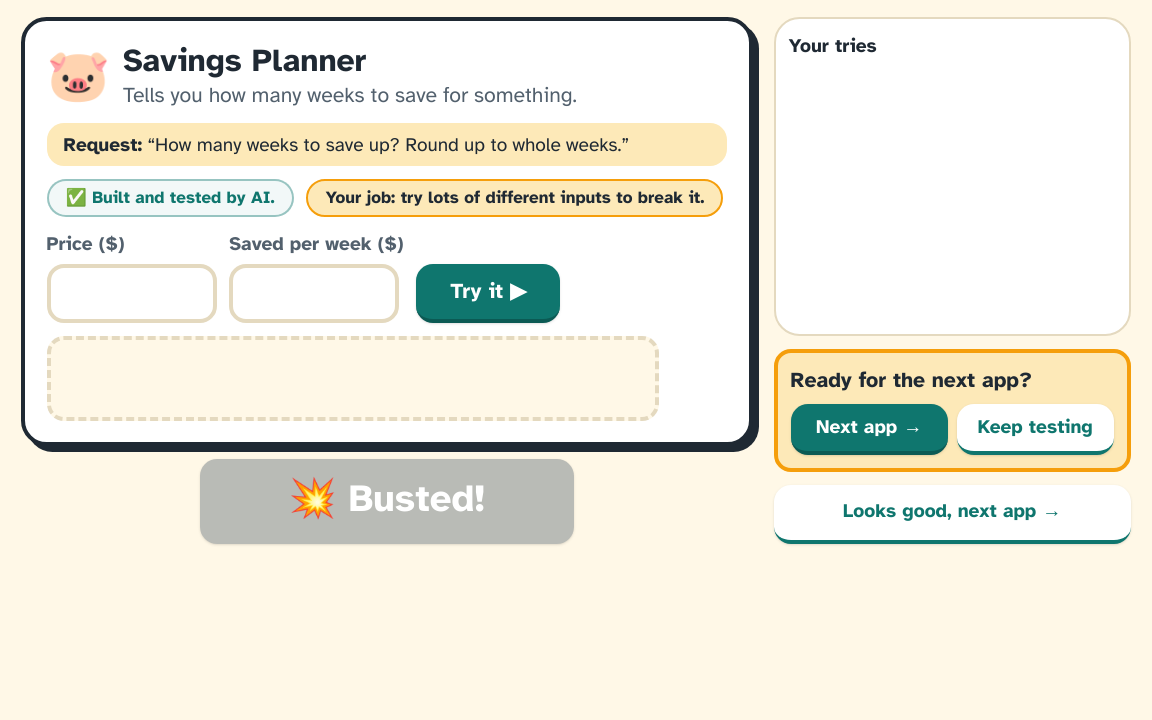
a machine › the nudge asks but never moves on by itself
Check: the text "Ready for the next app?" is shown, box 790,367 -> 1032,393
Click the button "Keep testing". click: x=1035, y=430
box: 956,404 -> 1114,455
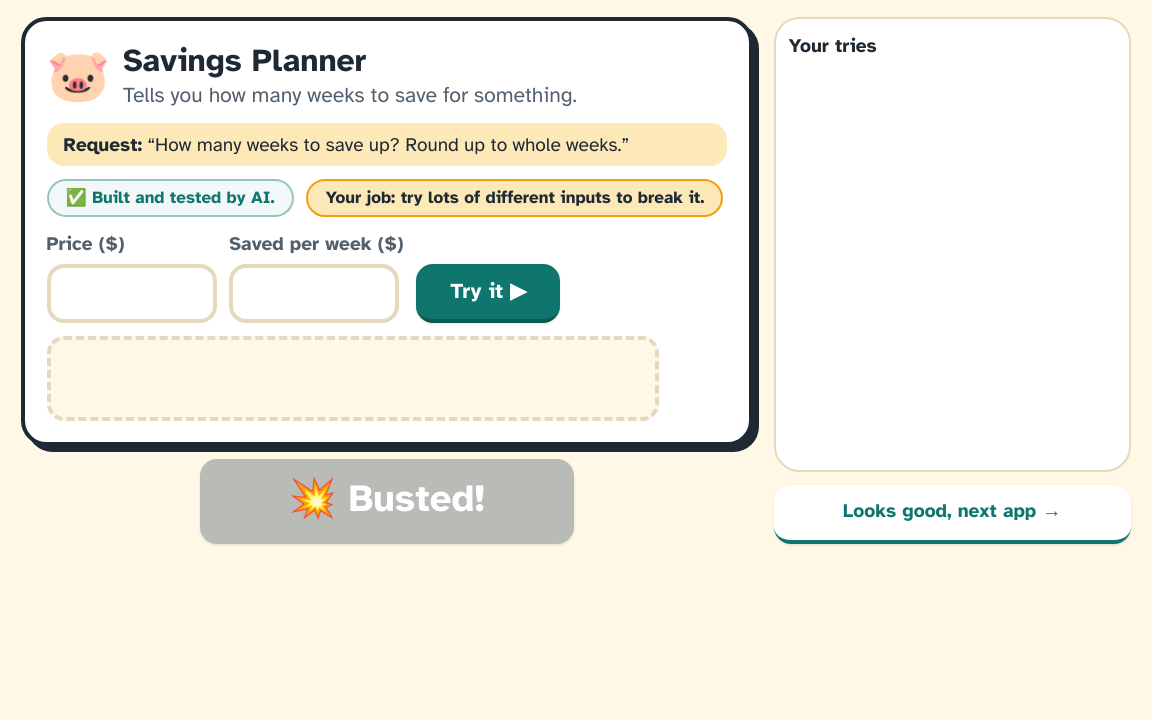
Check: the text "Ready for the next app" is gone
